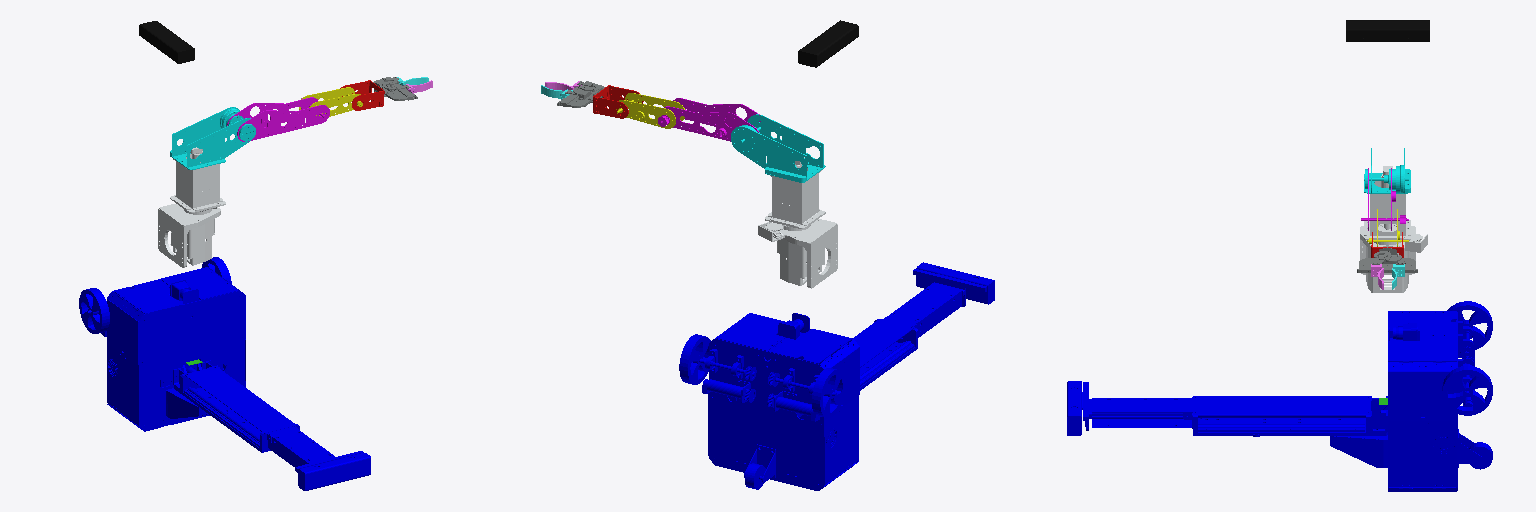
The robot description file, URDF, robot "xm_urdf":
<robot
  name="xm_urdf">
  <link
    name="base_link">
    <inertial>
      <origin
        xyz="-0.058386 -0.00013422 0.2828"
        rpy="0 0 0" />
      <mass
        value="23.205" />
      <inertia
        ixx="2.2285"
        ixy="-0.00082892"
        ixz="-0.36687"
        iyy="2.2956"
        iyz="0.0012257"
        izz="0.67883" />
    </inertial>
    <visual>
      <origin
        xyz="0 0 0"
        rpy="0 0 0" />
      <geometry>
        <mesh
          filename="package://xm_urdf/meshes/base_link.STL" />
      </geometry>
      <material
        name="">
        <color
          rgba="0 0 1 1" />
      </material>
    </visual>
    <collision>
      <origin
        xyz="0 0 0"
        rpy="0 0 0" />
      <geometry>
        <mesh
          filename="package://xm_urdf/meshes/base_link.STL" />
      </geometry>
    </collision>
  </link>

<link name="base_footprint">
    <visual>
      <origin xyz="0 0 0" rpy="0 0 0" />
      <geometry>
        <box size="0.05 0.05 0.001" />
      </geometry>
         <material name="green">
            <color rgba="0.2 0.8 0.2 1.0"/>
         </material>   
    </visual>

    <collision>
      <origin xyz="0 0 0" rpy="0 0 0" />
      <geometry>
       <box size="0.001 0.001 0.001" />
      </geometry>
    </collision>
  </link>

  <joint name="Joint_base" type="fixed">
    <origin xyz="0 0 0 " rpy="0 0 0" />        
    <parent link="base_footprint"/>
    <child link="base_link" />
  </joint>

  <link
    name="laser_link" />
  <joint
    name="laser"
    type="fixed">
    <origin
      xyz="0.163974226119285 0 0.268"
      rpy="-1.22065831197831E-42 0 0" />
    <parent
      link="base_link" />
    <child
      link="laser_link" />
    <axis
      xyz="0 0 0" />
  </joint>
  <link
    name="camera_link">
    <inertial>
      <origin
        xyz="-2.8828E-17 0.00031293 -0.033699"
        rpy="0 0 0" />
      <mass
        value="0.70931" />
      <inertia
        ixx="0.00036711"
        ixy="3.2266E-18"
        ixz="-2.0721E-19"
        iyy="0.0039733"
        iyz="1.0991E-06"
        izz="0.0038203" />
    </inertial>
    <visual>
      <origin
        xyz="0 0 0"
        rpy="0 0 0" />
      <geometry>
        <mesh
          filename="package://xm_urdf/meshes/camera_Link.STL" />
      </geometry>
      <material
        name="">
        <color
          rgba="0.1 0.1 0.1 1" />
      </material>
    </visual>
    <collision>
      <origin
        xyz="0 0 0"
        rpy="0 0 0" />
      <geometry>
        <mesh
          filename="package://xm_urdf/meshes/camera_Link.STL" />
      </geometry>
    </collision>
  </link>
  <joint
    name="joint_camera"
    type="fixed">
    <origin
      xyz="-0.0598758126584776 0 1.16914083167556"
      rpy="1.5707963267949 1.51232771764078E-26 1.5707963267949" />
    <parent
      link="base_link" />
    <child
      link="camera_link" />
    <axis
      xyz="0 0 0" />
  </joint>
  <link
    name="lifting_link">
    <inertial>
      <origin
        xyz="0.11124 0.0011157 0.099709"
        rpy="0 0 0" />
      <mass
        value="4.2881" />
      <inertia
        ixx="0.030442"
        ixy="0.00027157"
        ixz="0.0060464"
        iyy="0.032612"
        iyz="6.5027E-06"
        izz="0.015696" />
    </inertial>
    <visual>
      <origin
        xyz="0 0 0"
        rpy="0 0 0" />
      <geometry>
        <mesh
          filename="package://xm_urdf/meshes/lifting_Link.STL" />
      </geometry>
      <material
        name="">
        <color
          rgba="0.89804 0.91765 0.92941 1" />
      </material>
    </visual>
    <collision>
      <origin
        xyz="0 0 0"
        rpy="0 0 0" />
      <geometry>
        <mesh
          filename="package://xm_urdf/meshes/lifting_Link.STL" />
      </geometry>
    </collision>
  </link>
  <joint
    name="joint_lifting"
    type="prismatic">
    <origin
      xyz="-0.114 0 0.43917"
      rpy="-1.2207E-42 0 0" />
    <parent
      link="base_link" />
    <child
      link="lifting_link" />
    <axis
      xyz="0 0 -1" />
    <limit
      lower="-0.08"
      upper="0.31"
      effort="0"
      velocity="0" />
  </joint>
  <link
    name="waist_link">
    <inertial>
      <origin
        xyz="0.080745 0.0062517 0.10329"
        rpy="0 0 0" />
      <mass
        value="0.88833" />
      <inertia
        ixx="0.0030962"
        ixy="-0.00042931"
        ixz="0.001727"
        iyy="0.0064304"
        iyz="-0.00023096"
        izz="0.0070683" />
    </inertial>
    <visual>
      <origin
        xyz="0 0 0"
        rpy="0 0 0" />
      <geometry>
        <mesh
          filename="package://xm_urdf/meshes/waist_Link.STL" />
      </geometry>
      <material
        name="">
        <color
          rgba="0.1 0.91765 0.92941 1" />
      </material>
    </visual>
    <collision>
      <origin
        xyz="0 0 0"
        rpy="0 0 0" />
      <geometry>
        <mesh
          filename="package://xm_urdf/meshes/waist_Link.STL" />
      </geometry>
    </collision>
  </link>
  <joint
    name="joint_waist"
    type="revolute">
    <origin
      xyz="0.136 0 0.2388"
      rpy="-1.2207E-42 0 0" />
    <parent
      link="lifting_link" />
    <child
      link="waist_link" />
    <axis
      xyz="0 0 -1" />
    <limit
      lower="-1.57"
      upper="1.57"
      effort="0"
      velocity="0" />
  </joint>
  <link
    name="big_arm_link">
    <inertial>
      <origin
        xyz="0.15858 0.0033783 0.0013137"
        rpy="0 0 0" />
      <mass
        value="0.42189" />
      <inertia
        ixx="0.00077473"
        ixy="0.0001978"
        ixz="-0.00011508"
        iyy="0.0044734"
        iyz="-1.3185E-05"
        izz="0.0048568" />
    </inertial>
    <visual>
      <origin
        xyz="0 0 0"
        rpy="0 0 0" />
      <geometry>
        <mesh
          filename="package://xm_urdf/meshes/big_arm_Link.STL" />
      </geometry>
      <material
        name="">
        <color
          rgba="0.89804 0.1 0.92941 1" />
      </material>
    </visual>
    <collision>
      <origin
        xyz="0 0 0"
        rpy="0 0 0" />
      <geometry>
        <mesh
          filename="package://xm_urdf/meshes/big_arm_Link.STL" />
      </geometry>
    </collision>
  </link>
  <joint
    name="joint_big_arm"
    type="revolute">
    <origin
      xyz="0.15 -0.024 0.12996"
      rpy="-1.2207E-42 1.3825E-32 0" />
    <parent
      link="waist_link" />
    <child
      link="big_arm_link" />
    <axis
      xyz="0 -1 0" />
    <limit
      lower="-1.57"
      upper="1.57"
      effort="0"
      velocity="0" />
  </joint>
  <link
    name="fore_arm_link">
    <inertial>
      <origin
        xyz="0.093108 -0.0019364 -0.0003252"
        rpy="0 0 0" />
      <mass
        value="0.24897" />
      <inertia
        ixx="0.00032386"
        ixy="-5.3655E-05"
        ixz="1.7477E-07"
        iyy="0.00095578"
        iyz="-2.918E-06"
        izz="0.0011682" />
    </inertial>
    <visual>
      <origin
        xyz="0 0 0"
        rpy="0 0 0" />
      <geometry>
        <mesh
          filename="package://xm_urdf/meshes/fore_arm_Link.STL" />
      </geometry>
      <material
        name="">
        <color
          rgba="0.89804 0.91765 0.1 1" />
      </material>
    </visual>
    <collision>
      <origin
        xyz="0 0 0"
        rpy="0 0 0" />
      <geometry>
        <mesh
          filename="package://xm_urdf/meshes/fore_arm_Link.STL" />
      </geometry>
    </collision>
  </link>
  <joint
    name="joint_fore_arm"
    type="revolute">
    <origin
      xyz="0.28 0.024 -0.002"
      rpy="-1.2207E-42 -1.3825E-32 0" />
    <parent
      link="big_arm_link" />
    <child
      link="fore_arm_link" />
    <axis
      xyz="0 -1 0" />
    <limit
      lower="-1.57"
      upper="1.57"
      effort="0"
      velocity="0" />
  </joint>
  <link
    name="wrist_link">
    <inertial>
      <origin
        xyz="0.054228 -0.00038117 -0.0021816"
        rpy="0 0 0" />
      <mass
        value="0.13591" />
      <inertia
        ixx="0.00027415"
        ixy="-1.2603E-06"
        ixz="-6.1922E-06"
        iyy="0.00022407"
        iyz="5.0705E-08"
        izz="0.00042781" />
    </inertial>
    <visual>
      <origin
        xyz="0 0 0"
        rpy="0 0 0" />
      <geometry>
        <mesh
          filename="package://xm_urdf/meshes/wrist_Link.STL" />
      </geometry>
      <material
        name="">
        <color
          rgba="0.89804 0.1 0.1 1" />
      </material>
    </visual>
    <collision>
      <origin
        xyz="0 0 0"
        rpy="0 0 0" />
      <geometry>
        <mesh
          filename="package://xm_urdf/meshes/wrist_Link.STL" />
      </geometry>
    </collision>
  </link>
  <joint
    name="joint_wrist"
    type="revolute">
    <origin
      xyz="0.15 0 0"
      rpy="-1.2207E-42 1.3825E-32 0" />
    <parent
      link="fore_arm_link" />
    <child
      link="wrist_link" />
    <axis
      xyz="0 -1 0" />
    <limit
      lower="-2.2"
      upper="2.2"
      effort="0"
      velocity="0" />
  </joint>
  <link
    name="small_arm_link">
    <inertial>
      <origin
        xyz="0.04591 0.00086039 -0.0012881"
        rpy="0 0 0" />
      <mass
        value="0.27505" />
      <inertia
        ixx="0.00041798"
        ixy="2.1193E-06"
        ixz="-7.3544E-06"
        iyy="0.00030554"
        iyz="-1.3497E-06"
        izz="0.00066992" />
    </inertial>
    <visual>
      <origin
        xyz="0 0 0"
        rpy="0 0 0" />
      <geometry>
        <mesh
          filename="package://xm_urdf/meshes/small_arm_Link.STL" />
      </geometry>
      <material
        name="">
        <color
          rgba="0.52941 0.54902 0.54902 1" />
      </material>
    </visual>
    <collision>
      <origin
        xyz="0 0 0"
        rpy="0 0 0" />
      <geometry>
        <mesh
          filename="package://xm_urdf/meshes/small_arm_Link.STL" />
      </geometry>
    </collision>
  </link>
  <joint
    name="joint_small_arm"
    type="revolute">
    <origin
      xyz="0.094923 0 -0.0038189"
      rpy="-1.2207E-42 -1.3825E-32 0" />
    <parent
      link="wrist_link" />
    <child
      link="small_arm_link" />
    <axis
      xyz="-0.99919 0 0.040198" />
    <limit
      lower="-1.57"
      upper="1.57"
      effort="0"
      velocity="0" />
  </joint>
  <link
    name="right_finger_link">
    <inertial>
      <origin
        xyz="0.014381 -0.0066887 -0.00069344"
        rpy="0 0 0" />
      <mass
        value="0.02641" />
      <inertia
        ixx="4.7848E-06"
        ixy="4.1444E-06"
        ixz="-2.7231E-06"
        iyy="2.7792E-05"
        iyz="-5.6496E-07"
        izz="2.8388E-05" />
    </inertial>
    <visual>
      <origin
        xyz="0 0 0"
        rpy="0 0 0" />
      <geometry>
        <mesh
          filename="package://xm_urdf/meshes/right_finger_Link.STL" />
      </geometry>
      <material
        name="">
        <color
          rgba="1 0.5 1 1" />
      </material>
    </visual>
    <collision>
      <origin
        xyz="0 0 0"
        rpy="0 0 0" />
      <geometry>
        <mesh
          filename="package://xm_urdf/meshes/right_finger_Link.STL" />
      </geometry>
    </collision>
  </link>
  <joint
    name="joint_right_finger"
    type="prismatic">
    <origin
      xyz="0.11192 -0.020688 -0.0020008"
      rpy="-1.2207E-42 1.3825E-32 0" />
    <parent
      link="small_arm_link" />
    <child
      link="right_finger_link" />
    <axis
      xyz="0 1 0" />
    <limit
      lower="-0.06"
      upper="0"
      effort="0"
      velocity="0" />
  </joint>
  <link
    name="left_finger_link">
    <inertial>
      <origin
        xyz="0.014381 0.0066887 -0.00069344"
        rpy="0 0 0" />
      <mass
        value="0.02641" />
      <inertia
        ixx="4.7848E-06"
        ixy="-4.1444E-06"
        ixz="-2.7231E-06"
        iyy="2.7792E-05"
        iyz="5.6496E-07"
        izz="2.8388E-05" />
    </inertial>
    <visual>
      <origin
        xyz="0 0 0"
        rpy="0 0 0" />
      <geometry>
        <mesh
          filename="package://xm_urdf/meshes/left_finger_Link.STL" />
      </geometry>
      <material
        name="">
        <color
          rgba="0.3 1 1 1" />
      </material>
    </visual>
    <collision>
      <origin
        xyz="0 0 0"
        rpy="0 0 0" />
      <geometry>
        <mesh
          filename="package://xm_urdf/meshes/left_finger_Link.STL" />
      </geometry>
    </collision>
  </link>
  <joint
    name="joint_left_finger"
    type="prismatic">
    <origin
      xyz="0.11192 0.020688 -0.0020008"
      rpy="-1.2207E-42 1.3825E-32 0" />
    <parent
      link="small_arm_link" />
    <child
      link="left_finger_link" />
    <axis
      xyz="0 1 0" />
    <limit
      lower="0"
      upper="0.06"
      effort="0"
      velocity="0" />
  </joint>

<joint name="joint_gripper" type="fixed">
    <origin rpy="0 0 0" xyz="0.250 0 0"/>
    <parent link="small_arm_link"/>
    <child link="gripper_link"/>
  </joint>

  <link name="gripper_link">
    <visual>
      <origin rpy="0 0 0" xyz="-0.05 0 0"/>
      <geometry>
        <box size="0.001 0.001 0.001"/>
      </geometry>
    </visual>
    <collision>
      <origin rpy="0 0 0" xyz="-0.05 0 0"/>
      <geometry>
        <box size="0.001 0.001 0.001"/>
      </geometry>
    </collision>
    <!--inertial>
         <mass value="0.0012" />
         <origin xyz="0 0 0"/>
         <inertia ixx="2e-8" ixy="0.0" ixz="0.0"
          iyy="2e-8" iyz="0.0"
          izz="2e-8" />
      </inertial -->
  </link>
</robot>

--- Facts derived from the render (not from the file) ---
The picture shows the robot from 3 angles, left to right: view 1: azimuth 30°, elevation 25°; view 2: azimuth 150°, elevation 25°; view 3: azimuth 270°, elevation 25°; orthographic projection.
Robot: xm_urdf — 13 links, 12 joints (5 revolute, 3 prismatic, 4 fixed); root link base_footprint; default pose: every joint at zero.
Visible links, largest first — view 1: base_link, lifting_link, waist_link, big_arm_link, camera_link, fore_arm_link, wrist_link, small_arm_link; view 2: base_link, lifting_link, waist_link, big_arm_link, camera_link, fore_arm_link, wrist_link, small_arm_link; view 3: base_link, lifting_link, camera_link, waist_link, small_arm_link.
Boxes of the visible links, box(x1,y1,x2,y2) form: base_link: box(79, 257, 370, 490); lifting_link: box(158, 147, 225, 267); waist_link: box(170, 107, 255, 169); big_arm_link: box(227, 97, 329, 141); camera_link: box(139, 21, 194, 63); fore_arm_link: box(299, 87, 362, 116); wrist_link: box(340, 80, 384, 110); small_arm_link: box(373, 77, 417, 100); base_link: box(679, 262, 994, 490); lifting_link: box(758, 157, 837, 288); waist_link: box(731, 114, 825, 182); big_arm_link: box(658, 98, 760, 141); camera_link: box(798, 20, 858, 67); fore_arm_link: box(616, 93, 684, 128); wrist_link: box(593, 85, 643, 118); small_arm_link: box(557, 81, 604, 107); base_link: box(1067, 301, 1492, 491); lifting_link: box(1360, 166, 1427, 292); camera_link: box(1346, 20, 1429, 41); waist_link: box(1364, 148, 1410, 193); small_arm_link: box(1357, 247, 1417, 272).
Bounding box of the posed robot: 1.15 × 1.26 × 1.41 m (x, y, z).
Meshes: 10 distinct files referenced, 10 mesh visuals loaded (10 binary STL).
